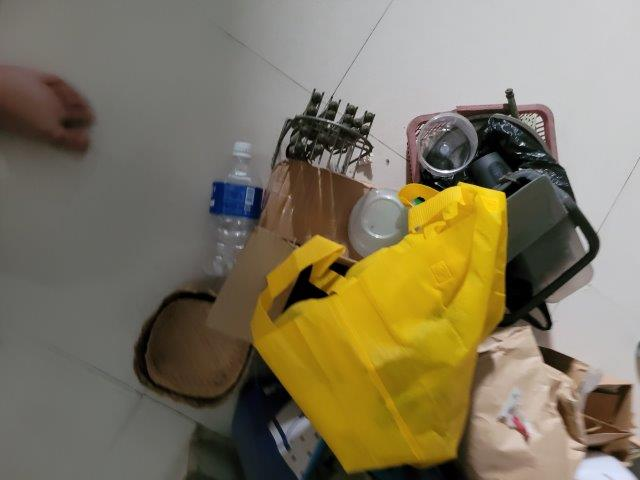botolplastik: (208, 141, 261, 270)
